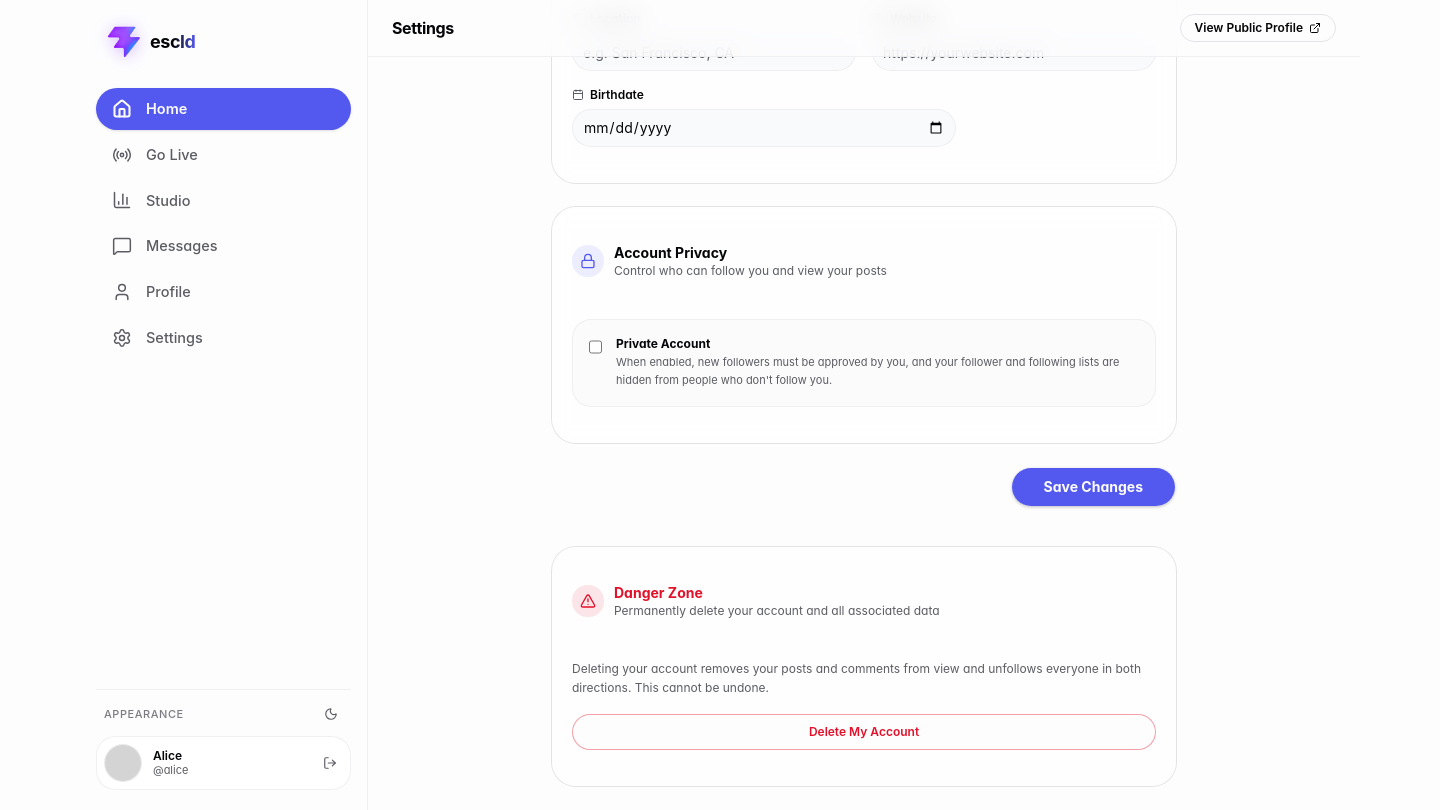
Settings danger zone › keeps the delete button disabled until the exact username is typed
(page scrolled)
Click the button "Delete My Account" at (864, 732), box [572,714,1156,750]
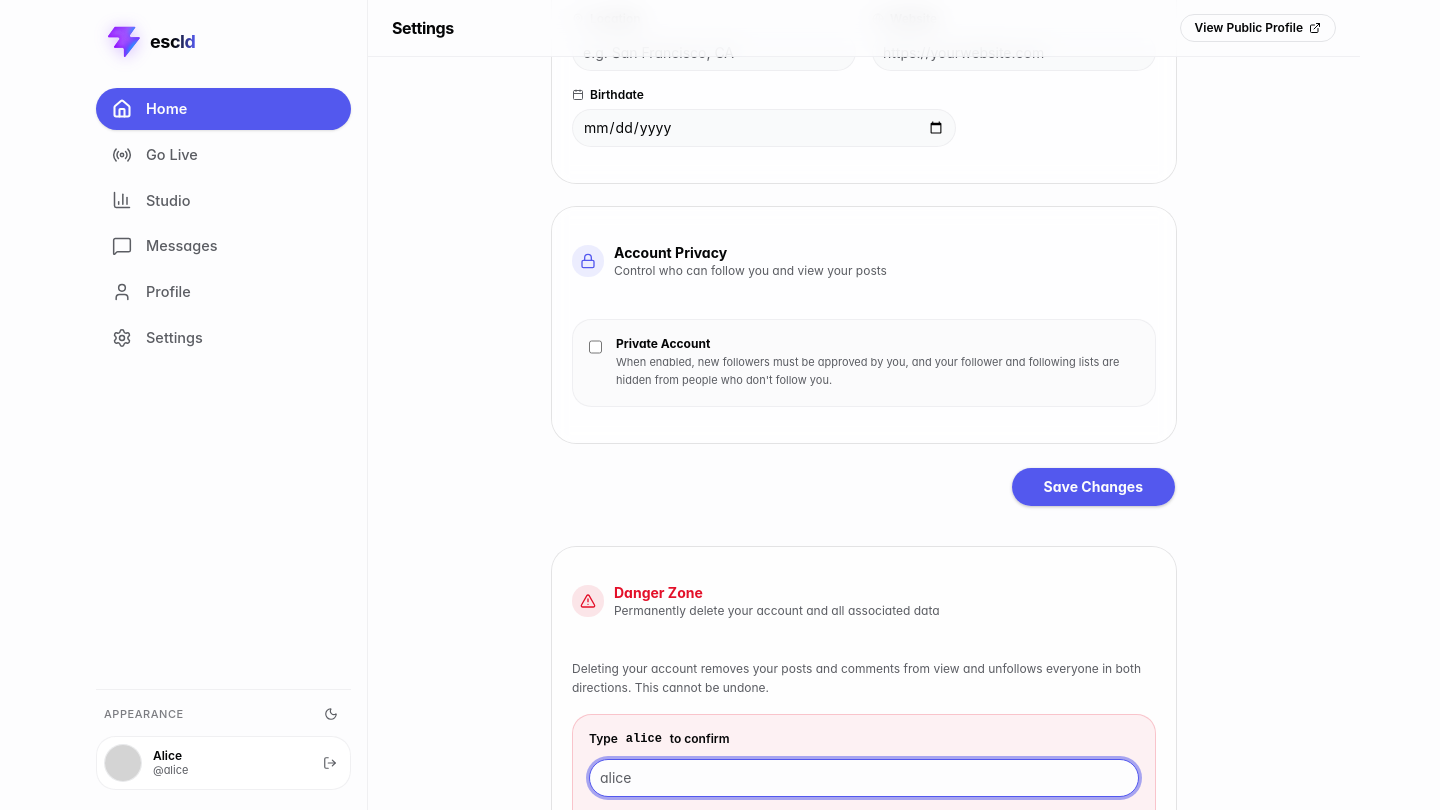
Type "not-alice" into the field labelled "Type alice to confirm" at (864, 778), box [589,759,1139,797]
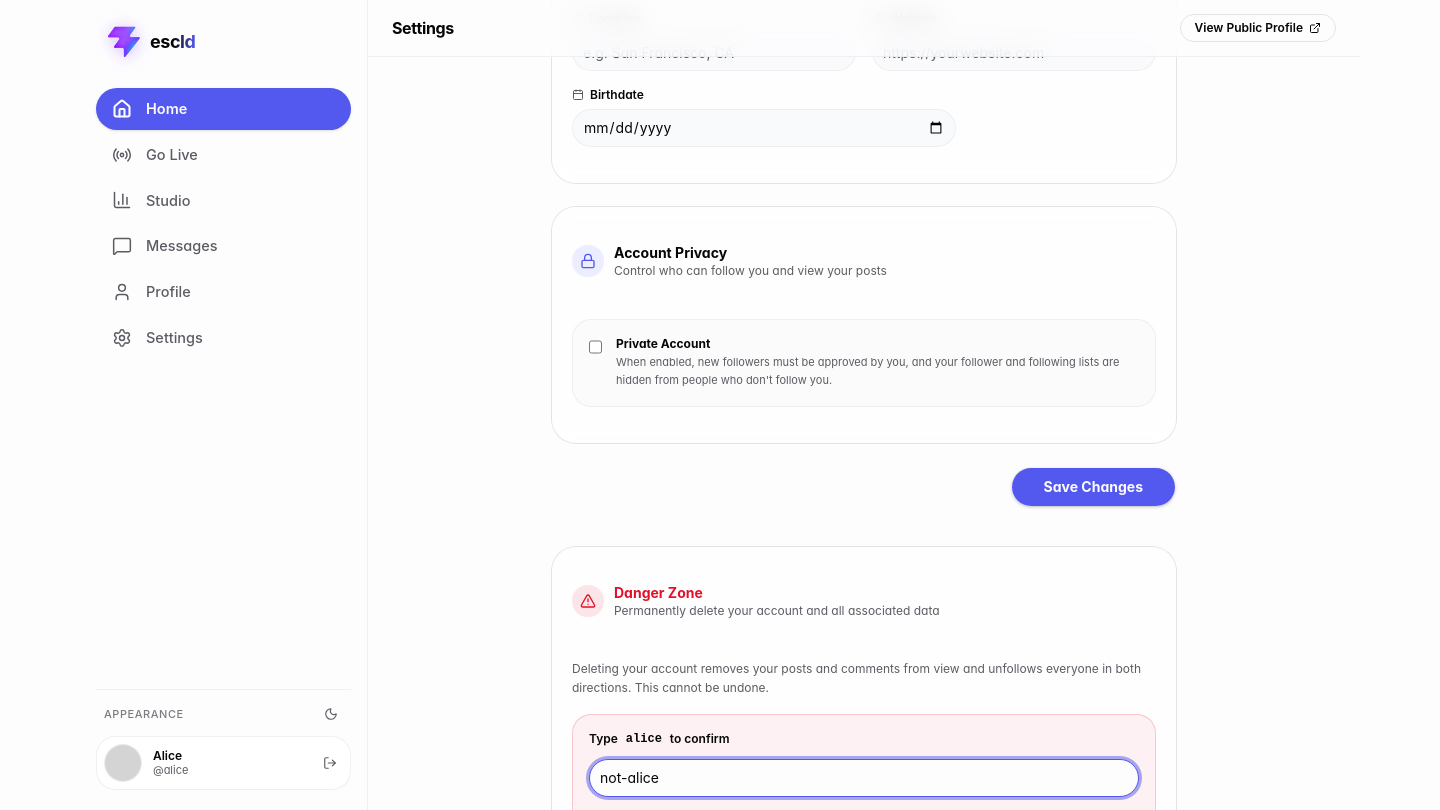
Replace the text in the field labelled "Type alice to confirm" with "alice" at (864, 778), box [589,759,1139,797]
(page scrolled)
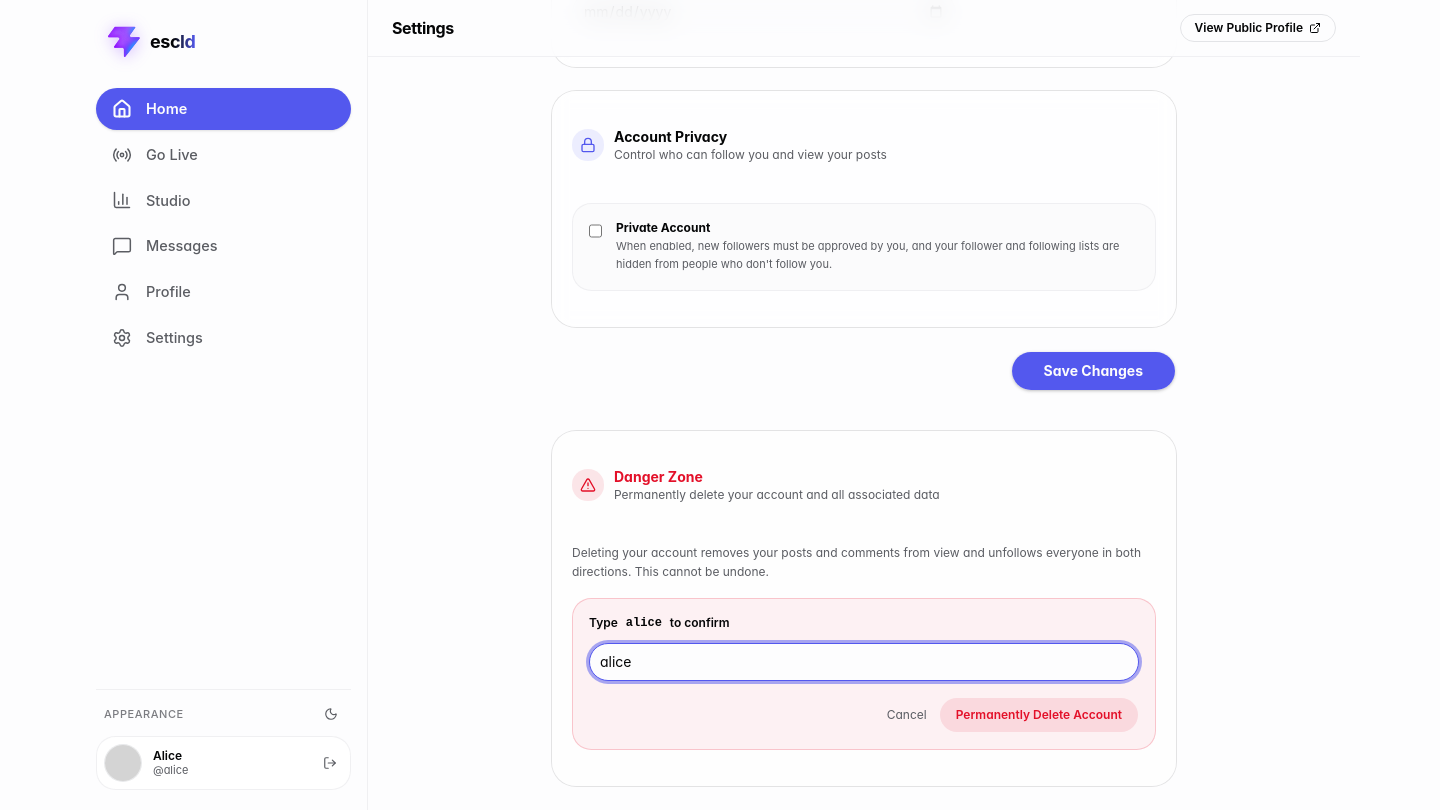
Now the button "Permanently Delete Account" is enabled, box [939,697,1139,733]
